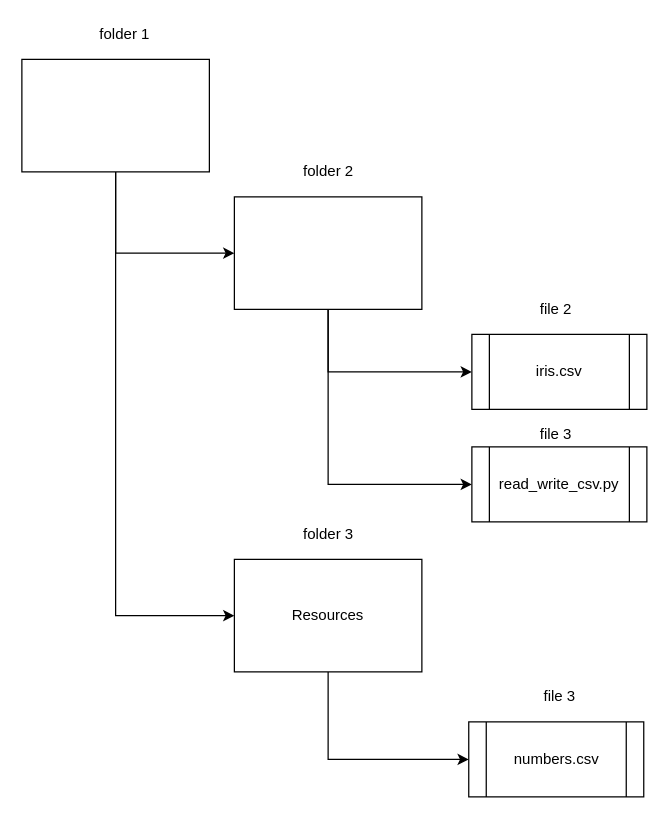
This 669x819 diagram has some shape labels left out. The shapes that lost their labels are listed below. From the top down, each one's box as (x1, y1, x2, y2) in pixels, then its label:
(21, 58, 209, 172): aiwatson_medium
(233, 196, 422, 309): read_write_csv
